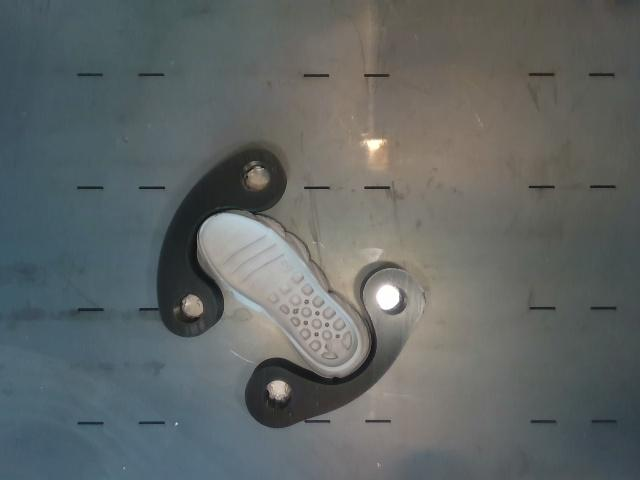shoes: (201, 213, 357, 366)
